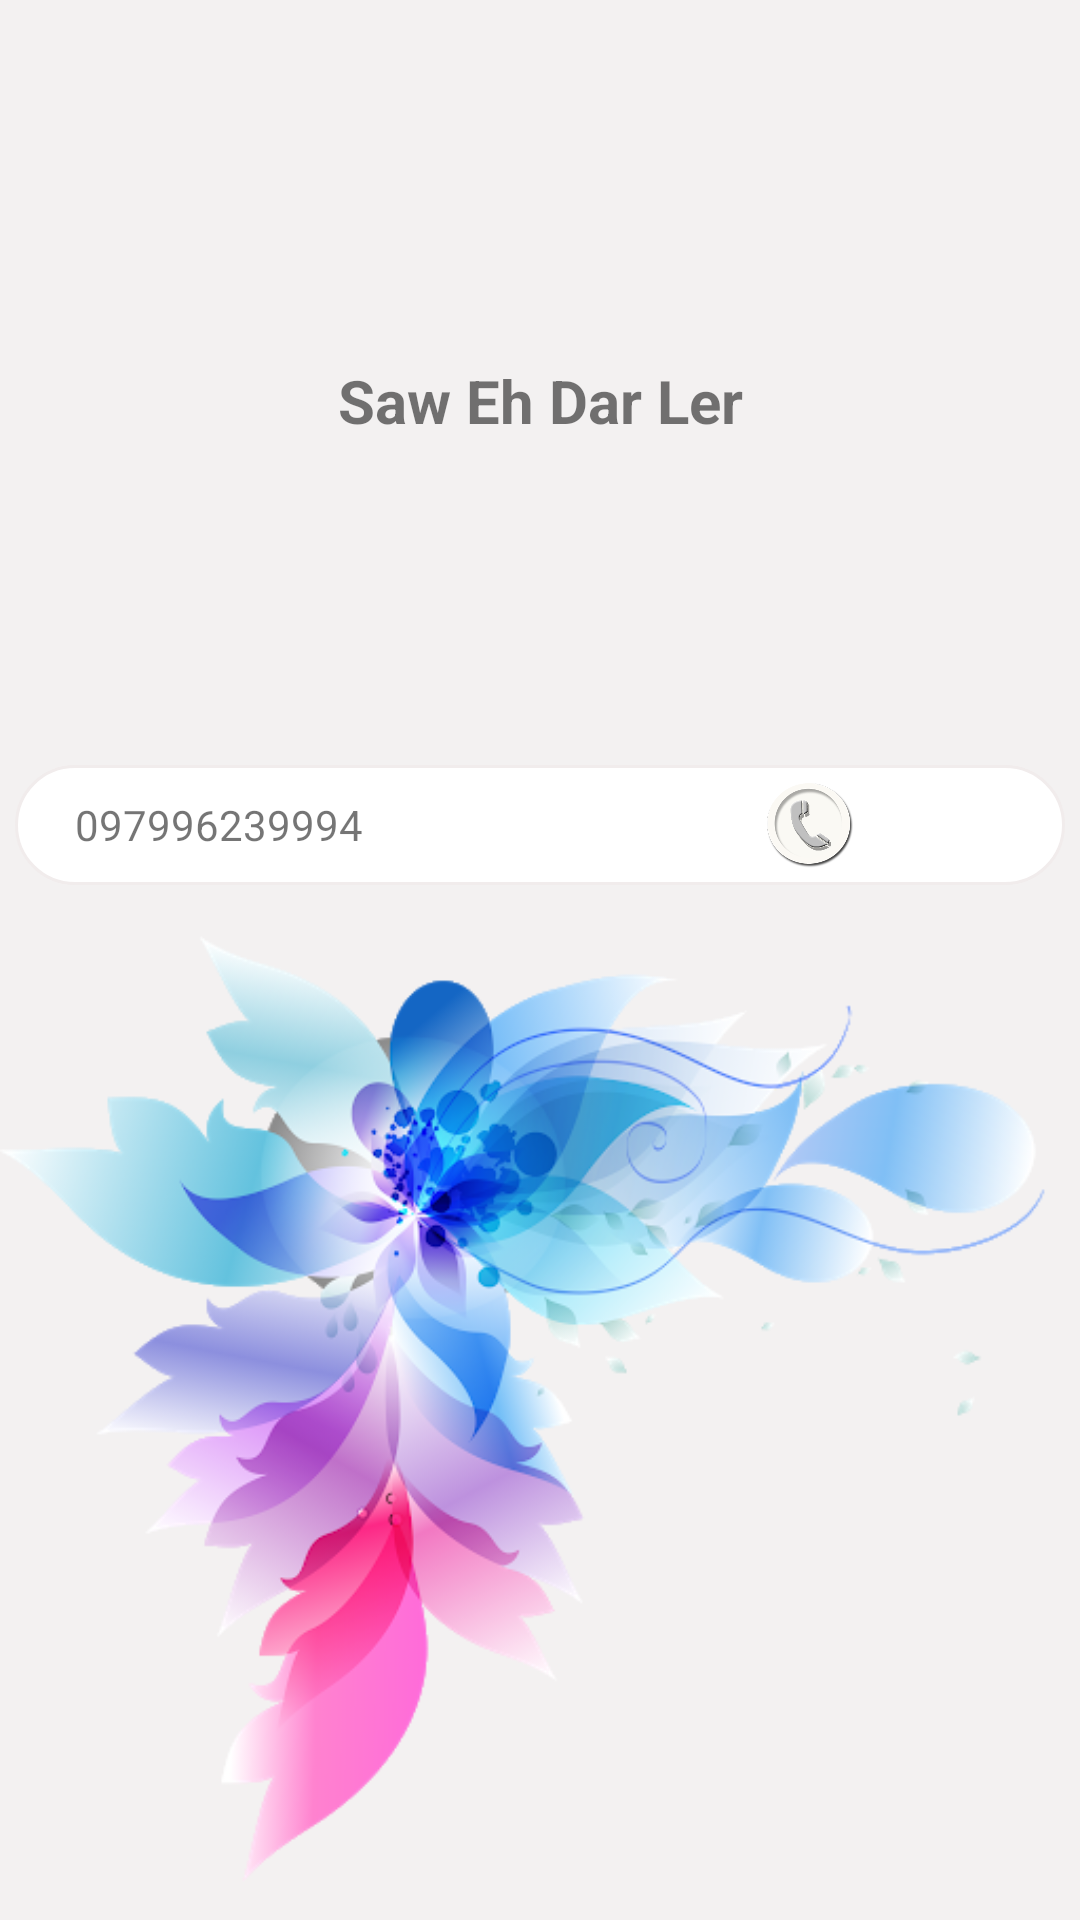

Point at icon controls on the screen. Image size 1080px×1920px, points as [x,y].
phone call: [809,826]
